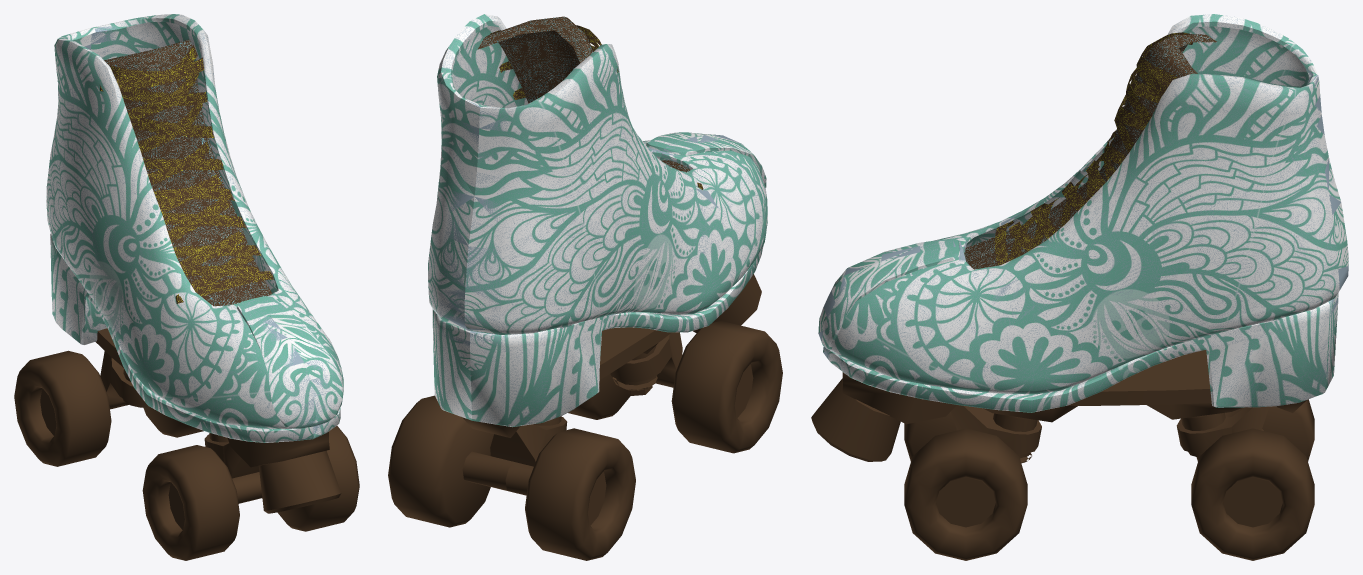
File: DirtyModel.fbx
3 renders of one model, left to right at view 1: azimuth 30°, elevation 25°; view 2: azimuth 150°, elevation 25°; view 3: azimuth 270°, elevation 25°, orthographic. The views are drawn at different scales.
Visible parts, largest first — view 1: Group1; view 2: Group1; view 3: Group1.
Boxes of the visible parts, bbox=[...] form: Group1: bbox=[14, 14, 359, 560]; Group1: bbox=[388, 14, 782, 560]; Group1: bbox=[811, 14, 1348, 560].
Size of the model in its own units: 98.97 by 240 by 246.
